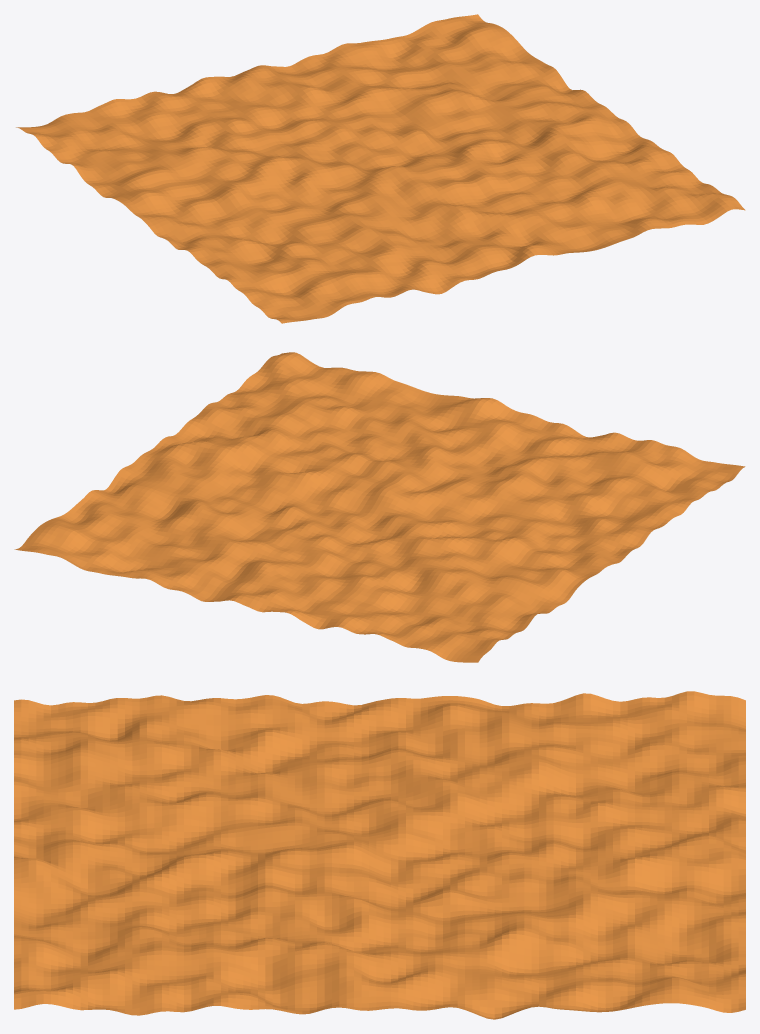
The model's file is mountains.glb.
3 views of the same model, one above another, from view 1: azimuth 30°, elevation 25°; view 2: azimuth 150°, elevation 25°; view 3: azimuth 270°, elevation 25° (orthographic). The views are drawn at different scales.
Parts seen in each view (by area): view 1: Plane.001; view 2: Plane.001; view 3: Plane.001.
Boxes of the visible parts, x1,y1,x2,y2 form: Plane.001: [16, 14, 745, 323]; Plane.001: [14, 352, 745, 662]; Plane.001: [14, 691, 745, 1019].
Bounding box in the file's own units: 15.65 × 0.6809 × 15.65.
